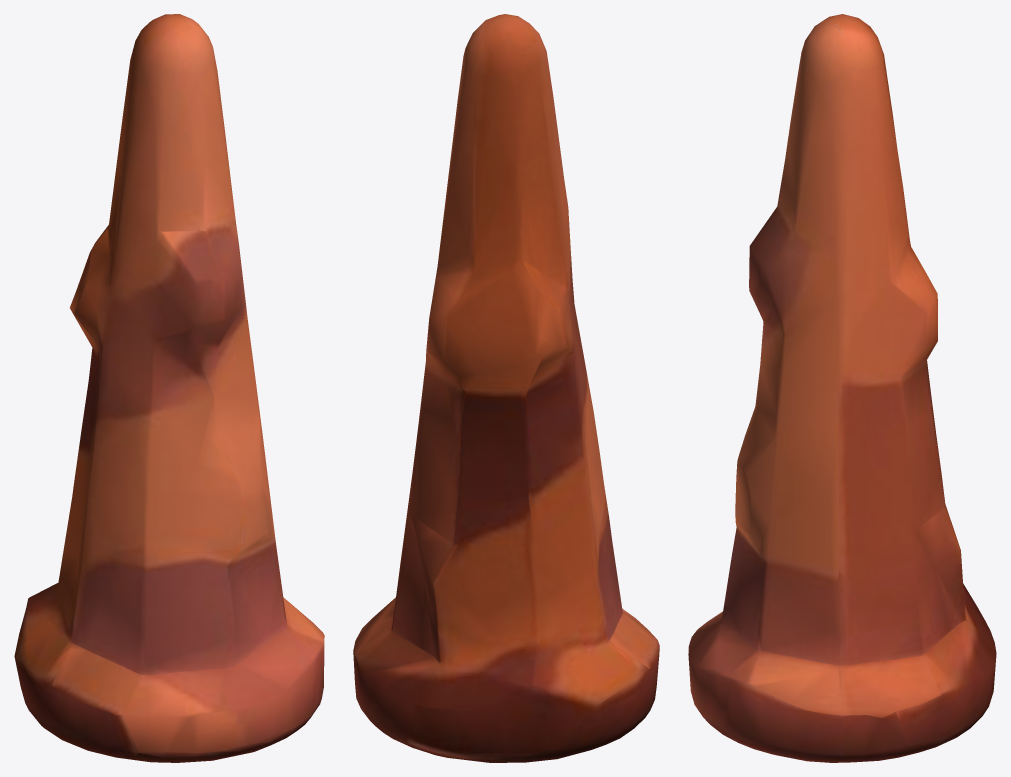
Rendered from x-rock-spire.glb.
3 views of the same model, side by side, from view 1: azimuth 30°, elevation 25°; view 2: azimuth 150°, elevation 25°; view 3: azimuth 270°, elevation 25° (orthographic).
Parts seen in each view (by area): view 1: geometry_0; view 2: geometry_0; view 3: geometry_0.
Part boxes in pixels (x1,y1,x2,y2): geometry_0: [14, 14, 324, 762]; geometry_0: [353, 14, 659, 762]; geometry_0: [688, 14, 996, 762].
Bounding box in the file's own units: 0.4046 × 1 × 0.4041.
1 material, 1 textured.
